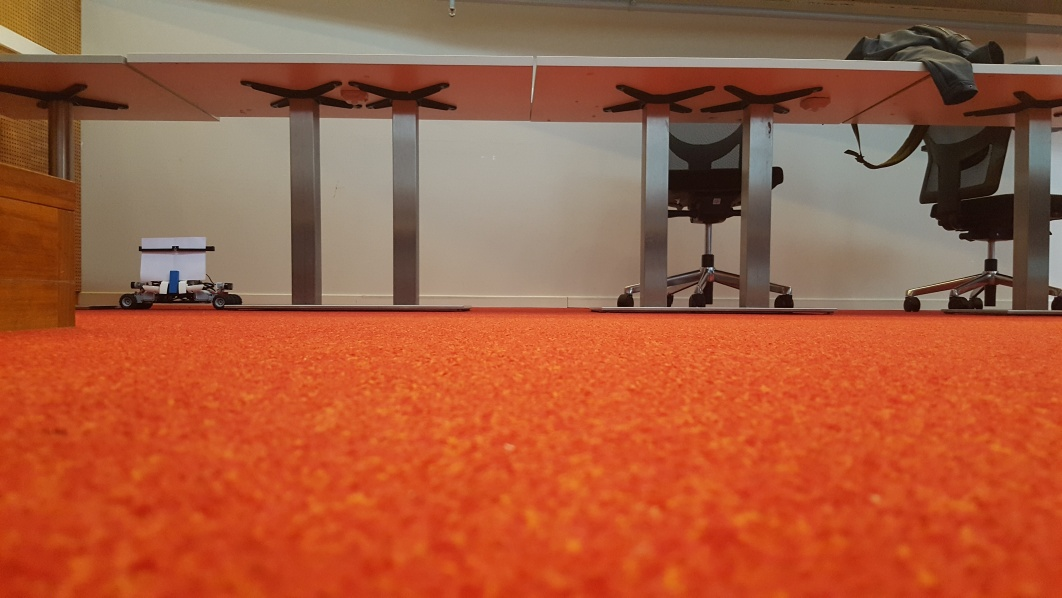car: (119, 234, 242, 311)
